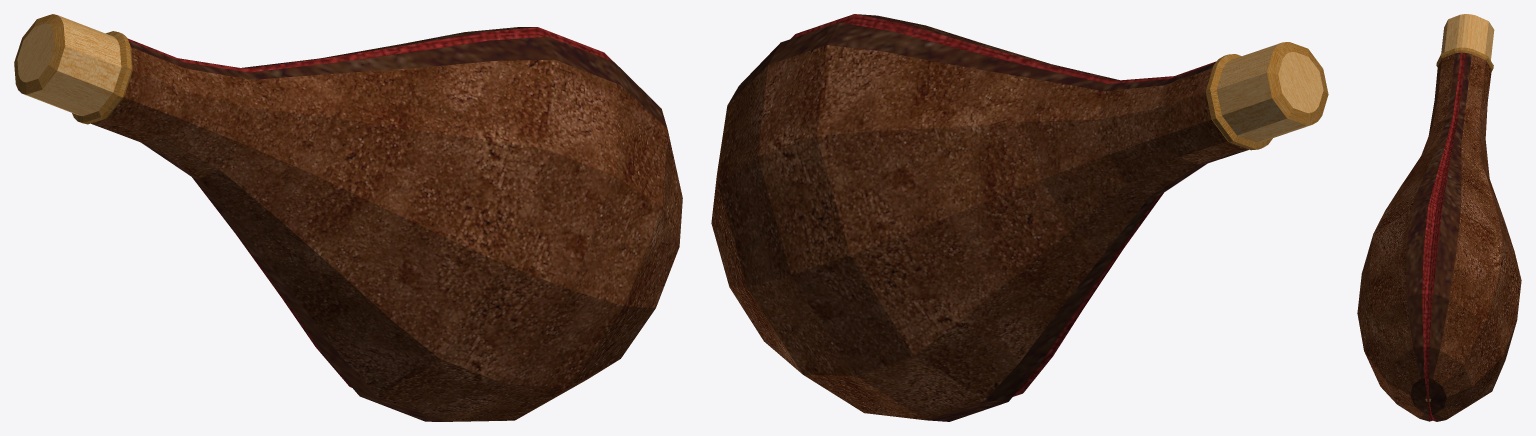
Rendered from SmallWaterskin.fbx.
The picture shows the model from 3 angles, left to right: view 1: azimuth 30°, elevation 25°; view 2: azimuth 150°, elevation 25°; view 3: azimuth 270°, elevation 25°; orthographic projection. The views are drawn at different scales.
Parts seen in each view (by area): view 1: ZomboidSmallWaterskin; view 2: ZomboidSmallWaterskin; view 3: ZomboidSmallWaterskin.
Part boxes in pixels (x1,y1,x2,y2): ZomboidSmallWaterskin: (14,14,682,421); ZomboidSmallWaterskin: (711,14,1328,421); ZomboidSmallWaterskin: (1357,14,1521,421).
Bounding box in the file's own units: 0.1534 × 0.1138 × 0.0599.
